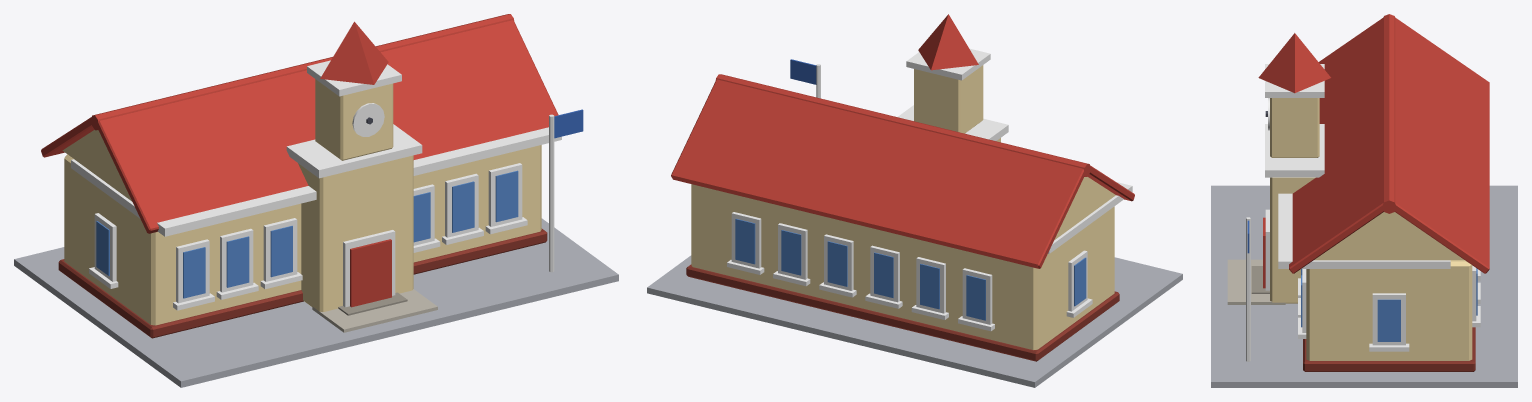
The model's file is school.glb.
The picture shows the model from 3 angles, left to right: view 1: azimuth 30°, elevation 25°; view 2: azimuth 150°, elevation 25°; view 3: azimuth 270°, elevation 25°; orthographic projection. The views are drawn at different scales.
Visible parts, largest first — view 1: model; view 2: model; view 3: model.
Boxes of the visible parts, box(x1,y1,x2,y2) form: model: box(14, 14, 618, 387); model: box(647, 14, 1182, 387); model: box(1211, 14, 1517, 387).
Bounding box in the file's own units: 2.8 × 1.71 × 1.85.
1 material, 1 textured.
